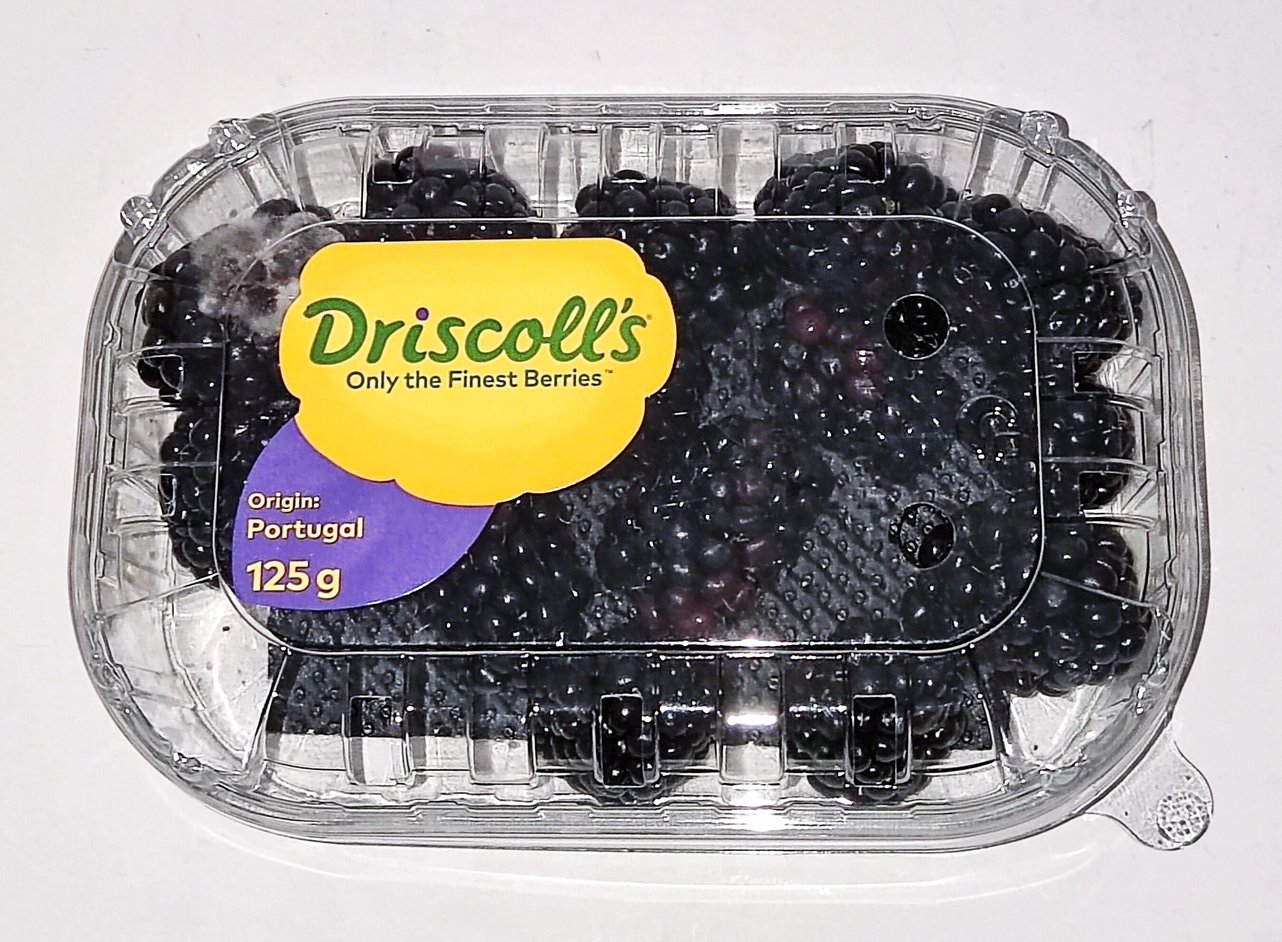Brombeeren: (64, 47, 1218, 895)
